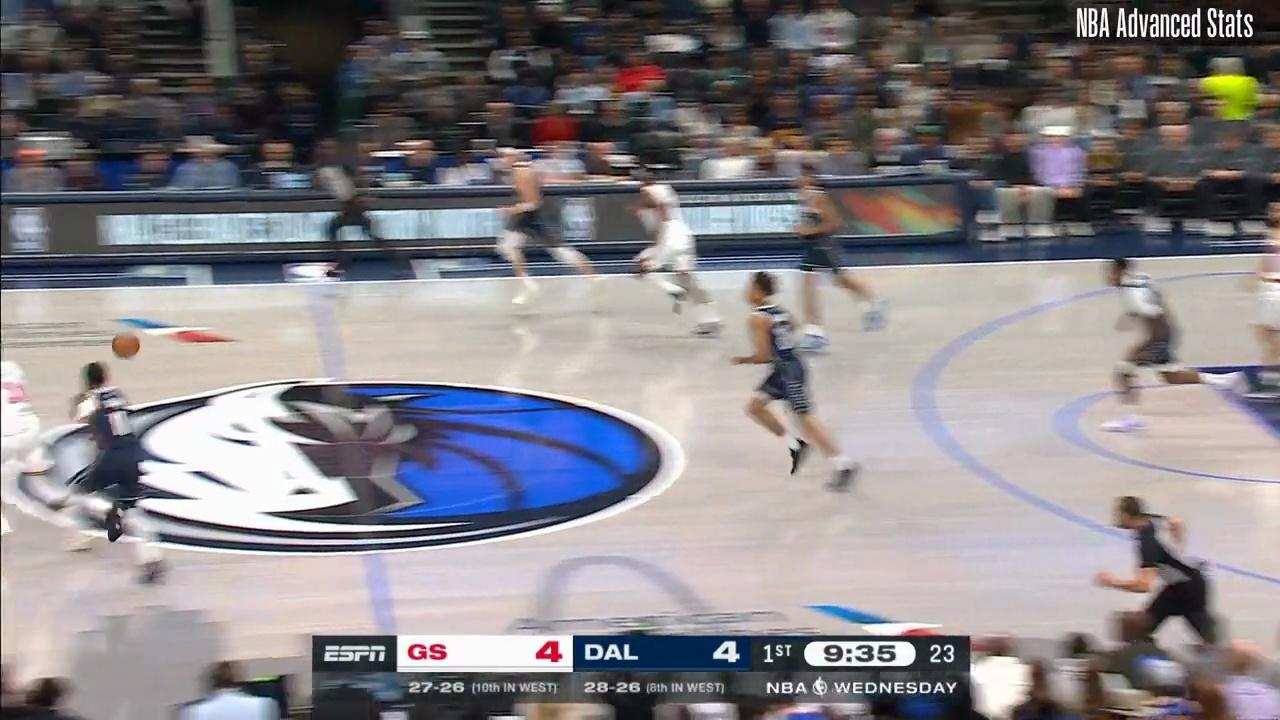basketball: (111, 333, 143, 362)
